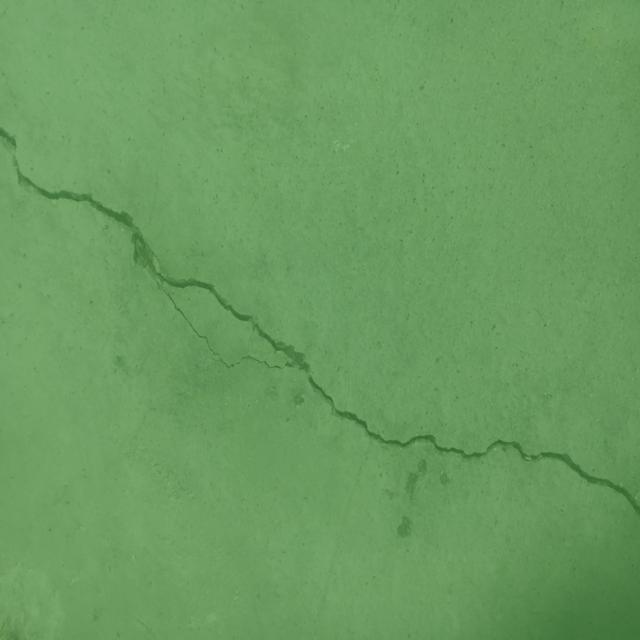crack: (0, 126, 640, 518)
